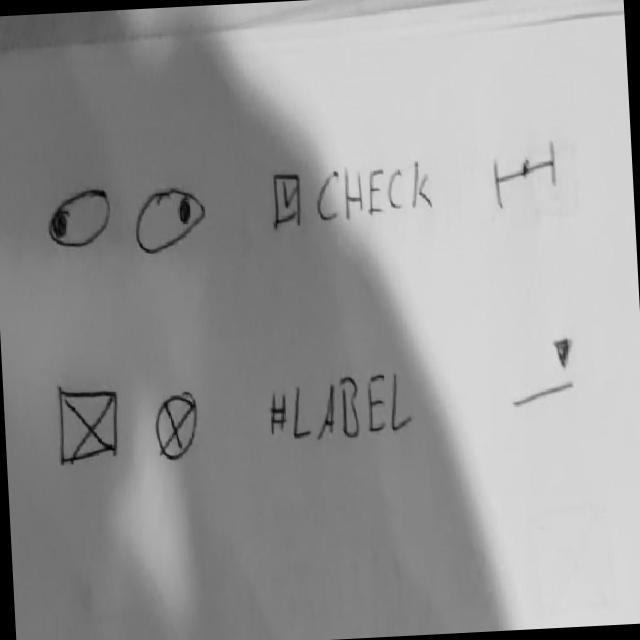checkbox: (271, 158, 436, 235)
image: (55, 384, 124, 472), (152, 385, 204, 468)
label: (266, 367, 417, 454)
select: (508, 332, 582, 415)
slider: (490, 136, 561, 217)
toggle: (133, 182, 212, 263), (45, 186, 115, 255)
